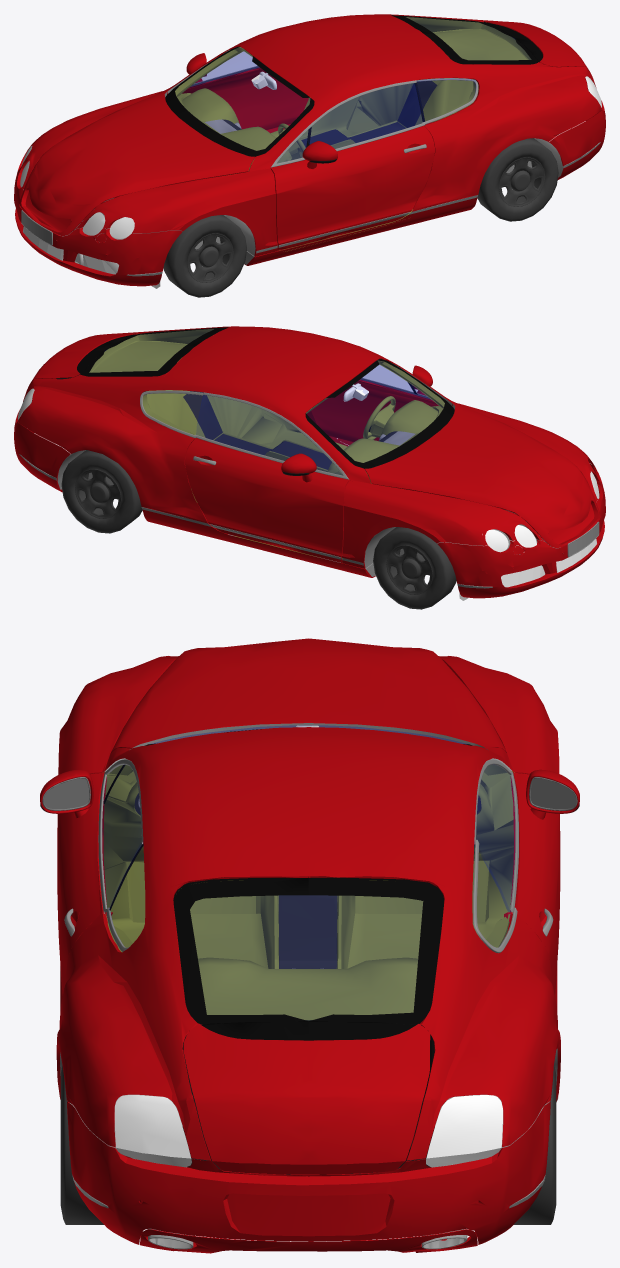
The model's file is araba2.fbx.
3 renders of one model, top to bottom at view 1: azimuth 30°, elevation 25°; view 2: azimuth 150°, elevation 25°; view 3: azimuth 270°, elevation 25°, orthographic. The views are drawn at different scales.
Visible parts, largest first — view 1: Plane03, Shape022, Shape06, Object040, Object053, Object051, Object046, Object02, Box48, Rectangle01, Shape02; view 2: Plane03, Object051, Shape06, Object054, Object055, Shape022, Object046, Object02, Box50, Box1040, Rectangle01, Shape02; view 3: Plane03, Shape06, Object046, Object051, Shape022, Object052, Object053, Box1040, Box48, Object055, Circle06, Shape02.
Boxes of the visible parts, x1,y1,x2,y2 form: Plane03: [14, 14, 605, 288]; Shape022: [270, 80, 434, 250]; Shape06: [175, 17, 531, 251]; Object040: [163, 215, 246, 297]; Object053: [477, 138, 558, 221]; Object051: [182, 52, 308, 133]; Object046: [484, 21, 592, 83]; Object02: [20, 146, 134, 239]; Box48: [302, 141, 337, 168]; Rectangle01: [21, 210, 52, 245]; Shape02: [416, 78, 478, 124]; Plane03: [14, 326, 605, 600]; Object051: [185, 392, 349, 562]; Shape06: [89, 329, 452, 558]; Object054: [373, 527, 456, 609]; Object055: [61, 450, 142, 533]; Shape022: [311, 365, 438, 445]; Object046: [26, 333, 135, 396]; Object02: [482, 471, 599, 552]; Box50: [363, 396, 395, 439]; Box1040: [281, 453, 316, 482]; Rectangle01: [567, 521, 599, 557]; Shape02: [140, 390, 203, 438]; Plane03: [56, 638, 560, 1253]; Shape06: [103, 764, 514, 1020]; Object046: [183, 1022, 430, 1174]; Object051: [474, 759, 560, 1010]; Shape022: [57, 759, 143, 1010]; Object052: [114, 1095, 502, 1167]; Object053: [60, 1065, 103, 1224]; Box1040: [526, 769, 579, 819]; Box48: [40, 769, 93, 818]; Object055: [514, 1064, 556, 1224]; Circle06: [148, 1228, 467, 1249]; Shape02: [106, 839, 517, 953].
Size of the model in its own units: 188 by 53.22 by 80.67.
